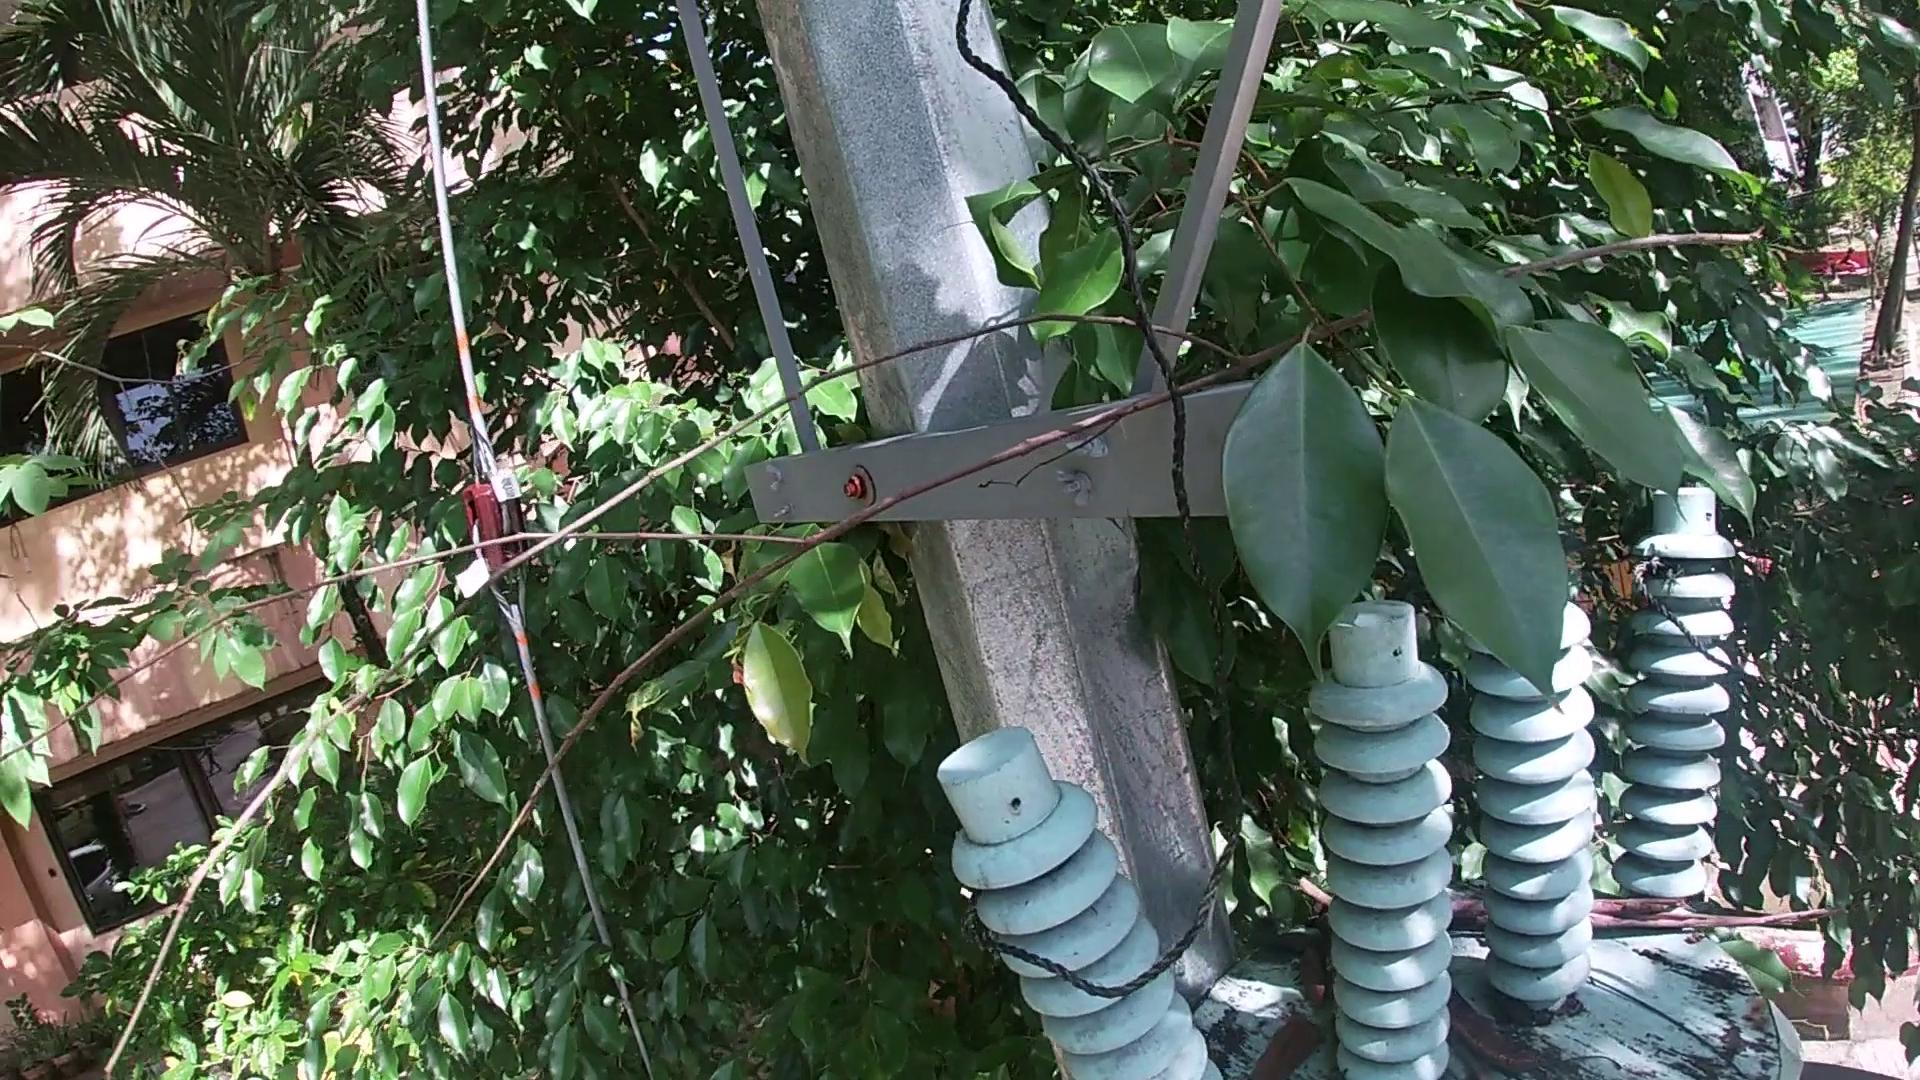leaf: (1245, 1019, 1329, 1077), (1302, 948, 1338, 1015)
mahogany fruit: (1436, 994, 1565, 1077)
tree branch: (92, 225, 1795, 1064), (1592, 975, 1762, 1073), (1590, 894, 1845, 932), (1440, 899, 1491, 932), (1287, 880, 1333, 901)
